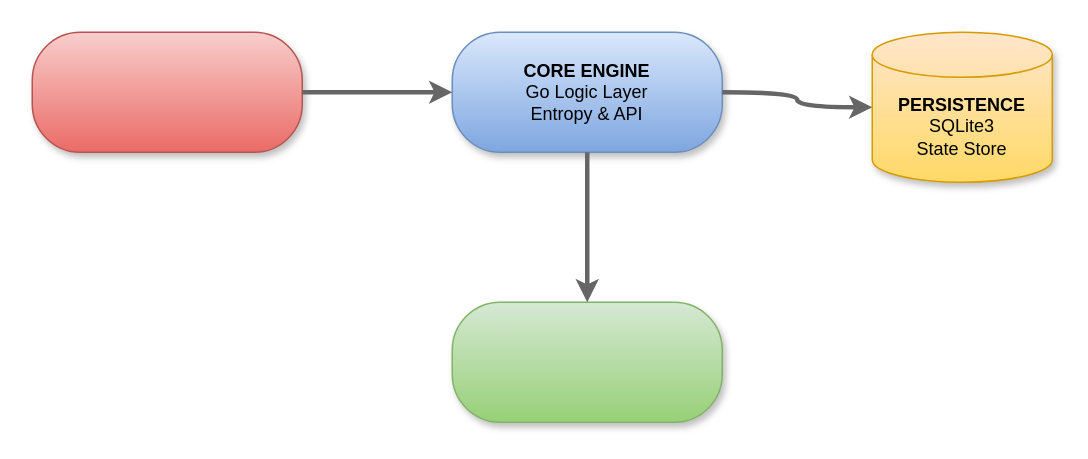
Some shapes in this 1088 by 459 pixel diagram are drawn without their labels. Each missing label, with the centre of its shape:
"DASHBOARD Glassmorphism UI Vanilla JS & CSS" belongs at [168,94].
"NATIVE BRIDGE runtime.GOOS System Shells" belongs at [588,364].
